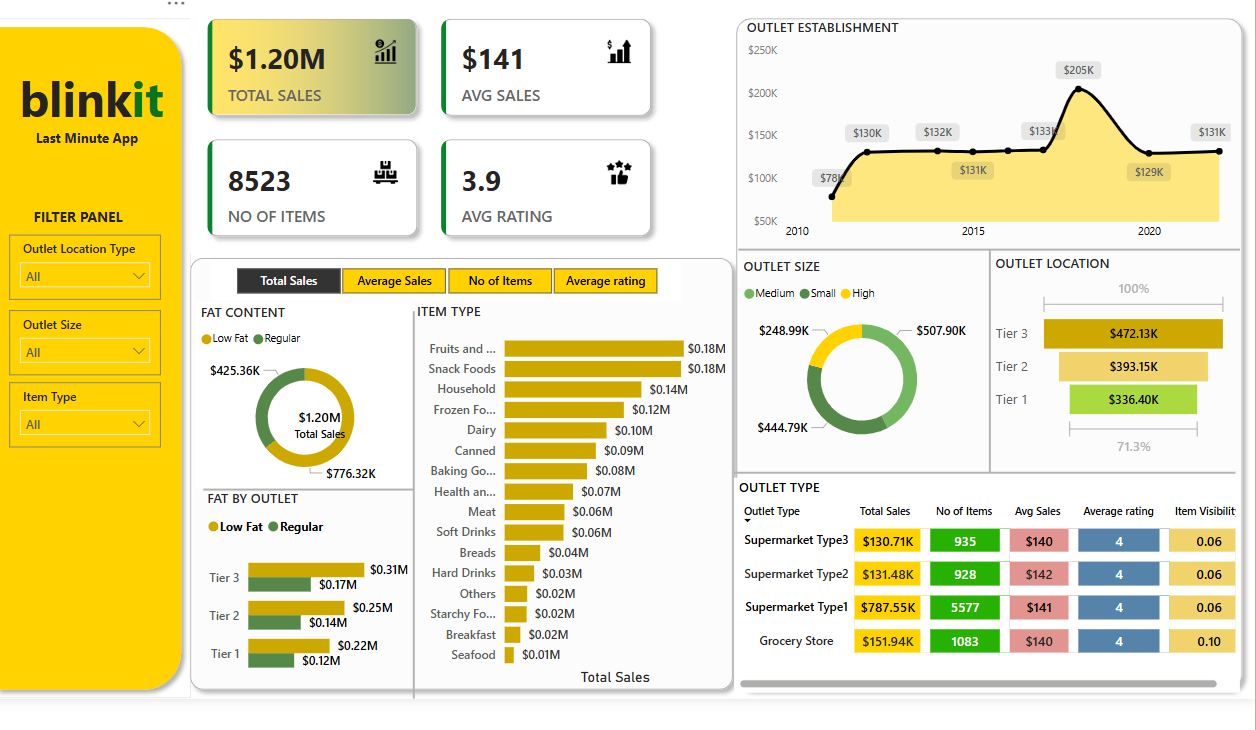

The page's visual inventory and layout, read from the dashboard file:
{"tool":"powerbi","page":{"name":"Page 1","canvas":[1280,720],"ordinal":0},"visuals":[{"type":"shape","box":[0,32.5,205.1,687.1],"z":0},{"type":"textbox","box":[22.7,75,165.8,81.8],"z":1000},{"type":"textbox","box":[22.4,139,153.6,35.9],"z":2000},{"type":"cardVisual","fields":{"Data":["BlinkIT Grocery Data.Total Sales","BlinkIT Grocery Data.Average Sales","BlinkIT Grocery Data.No of Items","BlinkIT Grocery Data.Average rating"]},"box":[205.1,15.7,483.1,254.4],"z":3000},{"type":"shape","box":[196.1,265.6,566,453.9],"z":4000},{"type":"donutChart","title":"FAT CONTENT","fields":{"Y":["BlinkIT Grocery Data.Total Sales"],"Category":["BlinkIT Grocery Data.Item Fat Content"]},"box":[210.7,319.4,219.7,188.3],"z":5000},{"type":"slicer","fields":{"Values":["Metrics.Metrics"]},"box":[226,278.3,474.7,39.8],"z":6000},{"type":"cardVisual","fields":{"Data":["BlinkIT Grocery Data.Total Sales"]},"box":[282.8,408.9,107.9,56.8],"z":7000},{"type":"clusteredBarChart","title":"FAT BY OUTLET","fields":{"Y":["BlinkIT Grocery Data.Total Sales"],"Category":["BlinkIT Grocery Data.Outlet Location Type"],"Series":["BlinkIT Grocery Data.Item Fat Content"]},"box":[216.9,507.7,212.4,202.2],"z":8000},{"type":"shape","box":[218.1,492.9,212.4,30.7],"z":9000},{"type":"shape","box":[325,328.4,211.8,391.2],"z":10000},{"type":"barChart","title":"ITEM TYPE","fields":{"Y":["BlinkIT Grocery Data.Total Sales"],"Category":["BlinkIT Grocery Data.Item Type"]},"box":[429.3,318,321.4,391.8],"z":11000},{"type":"shape","box":[747.6,23.5,529,696],"z":12000},{"type":"lineChart","title":"OUTLET ESTABLISHMENT","fields":{"Y":["BlinkIT Grocery Data.Total Sales"],"Category":["BlinkIT Grocery Data.Outlet Establishment Year"]},"box":[762.2,32.5,498.8,233.1],"z":13000},{"type":"shape","box":[758.8,251.1,506.6,30.3],"z":14000},{"type":"donutChart","title":"OUTLET SIZE","fields":{"Y":["BlinkIT Grocery Data.Total Sales"],"Category":["BlinkIT Grocery Data.Outlet Size"]},"box":[758.8,273.5,248.8,202.9],"z":15000},{"type":"shape","box":[906.7,266.8,211.8,224.2],"z":16000},{"type":"funnel","title":"OUTLET LOCATION","fields":{"Y":["BlinkIT Grocery Data.Total Sales"],"Category":["BlinkIT Grocery Data.Outlet Location Type"]},"box":[1013.2,270.1,244.3,209.6],"z":17000},{"type":"shape","box":[754.3,476.3,506.6,30.3],"z":18000},{"type":"pivotTable","title":"OUTLET TYPE","fields":{"Rows":["BlinkIT Grocery Data.Outlet Type"],"Values":["BlinkIT Grocery Data.Total Sales","BlinkIT Grocery Data.No of Items","BlinkIT Grocery Data.Avg Sales","BlinkIT Grocery Data.Average rating","Avg(BlinkIT Grocery Data.Item Visibility)"]},"box":[754.3,496.5,511.1,217.4],"z":19000},{"type":"slicer","fields":{"Values":["BlinkIT Grocery Data.Outlet Location Type"]},"box":[22.4,251.1,153.6,66.1],"z":20000},{"type":"slicer","fields":{"Values":["BlinkIT Grocery Data.Outlet Size"]},"box":[22.4,327.3,153.6,66.1],"z":21000},{"type":"slicer","fields":{"Values":["BlinkIT Grocery Data.Item Type"]},"box":[22.4,400.1,153.6,66.1],"z":22000},{"type":"textbox","box":[34.7,217.4,114.3,33.6],"z":22001}]}

Visuals, with their boxes on the page's 1280x720 design canvas (x1, y1, x2, y2). These are canvas units, not pixel positions in the 1256x730 screenshot, which may show the page scaled, cropped or inside an application window:
shape: BBox(0, 32, 205, 720)
textbox: BBox(23, 75, 188, 157)
textbox: BBox(22, 139, 176, 175)
cardVisual - BlinkIT Grocery Data.Total Sales x BlinkIT Grocery Data.Average Sales: BBox(205, 16, 688, 270)
shape: BBox(196, 266, 762, 720)
"FAT CONTENT" donutChart: BBox(211, 319, 430, 508)
slicer - Metrics.Metrics: BBox(226, 278, 701, 318)
cardVisual - BlinkIT Grocery Data.Total Sales: BBox(283, 409, 391, 466)
"FAT BY OUTLET" clusteredBarChart: BBox(217, 508, 429, 710)
shape: BBox(218, 493, 430, 524)
shape: BBox(325, 328, 537, 720)
"ITEM TYPE" barChart: BBox(429, 318, 751, 710)
shape: BBox(748, 24, 1277, 720)
"OUTLET ESTABLISHMENT" lineChart: BBox(762, 32, 1261, 266)
shape: BBox(759, 251, 1265, 281)
"OUTLET SIZE" donutChart: BBox(759, 274, 1008, 476)
shape: BBox(907, 267, 1118, 491)
"OUTLET LOCATION" funnel: BBox(1013, 270, 1258, 480)
shape: BBox(754, 476, 1261, 507)
"OUTLET TYPE" pivotTable: BBox(754, 496, 1265, 714)
slicer - BlinkIT Grocery Data.Outlet Location Type: BBox(22, 251, 176, 317)
slicer - BlinkIT Grocery Data.Outlet Size: BBox(22, 327, 176, 393)
slicer - BlinkIT Grocery Data.Item Type: BBox(22, 400, 176, 466)
textbox: BBox(35, 217, 149, 251)
